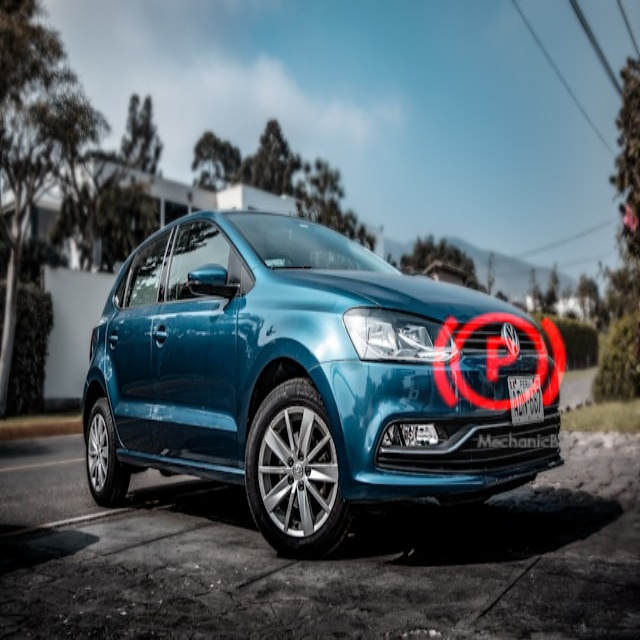symbol: (404, 269, 592, 457)
